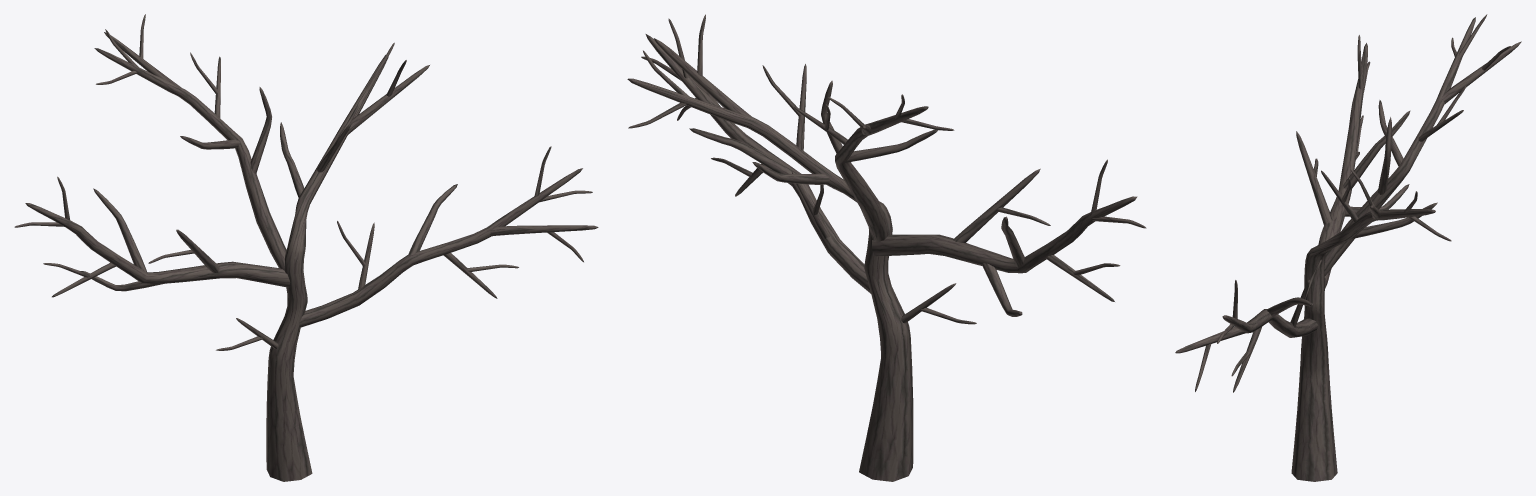
The model's file is DeadTree_8.glb.
The picture shows the model from 3 angles, left to right: view 1: azimuth 30°, elevation 25°; view 2: azimuth 150°, elevation 25°; view 3: azimuth 270°, elevation 25°; orthographic projection. The views are drawn at different scales.
Bounding box in the file's own units: 8.17 × 6.28 × 4.8.
1 material, 1 textured.
